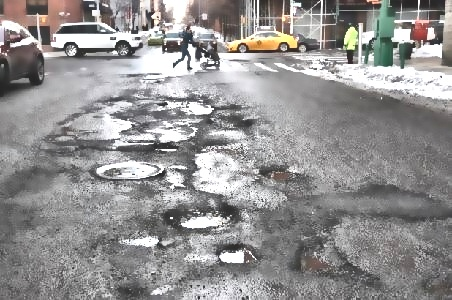pothole: (168, 204, 238, 232), (292, 243, 336, 276), (215, 240, 259, 266), (259, 165, 305, 182), (156, 143, 179, 152)
